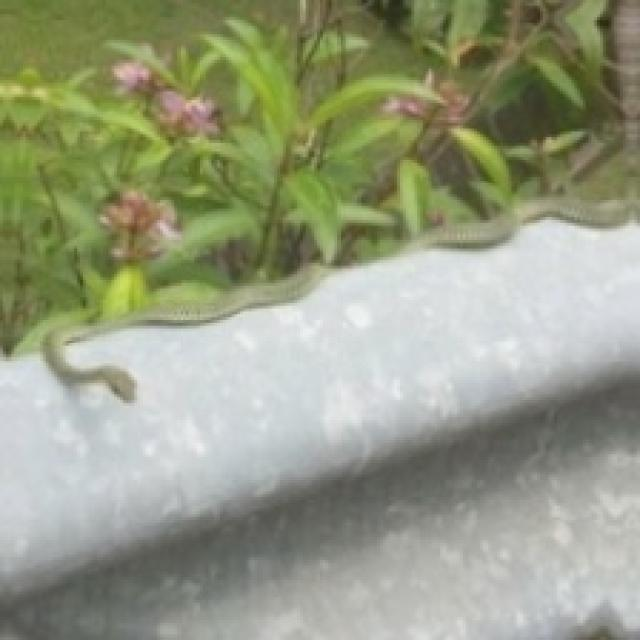paradise tree snake: (0, 0, 637, 400)
